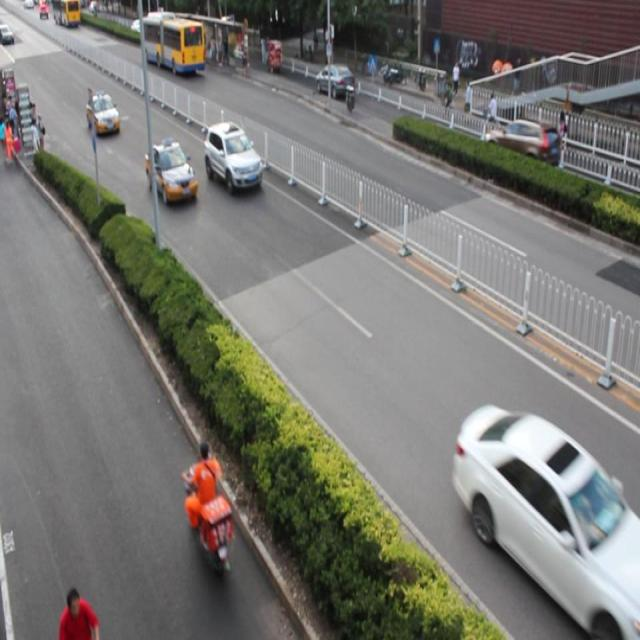car: (454, 402, 640, 640), (483, 114, 560, 178), (204, 123, 262, 196), (145, 139, 198, 208), (87, 94, 120, 138), (314, 65, 354, 97)
van: (140, 11, 203, 77)
